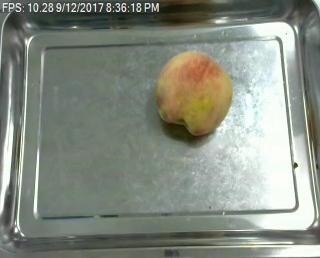Peach: (154, 50, 232, 136)
